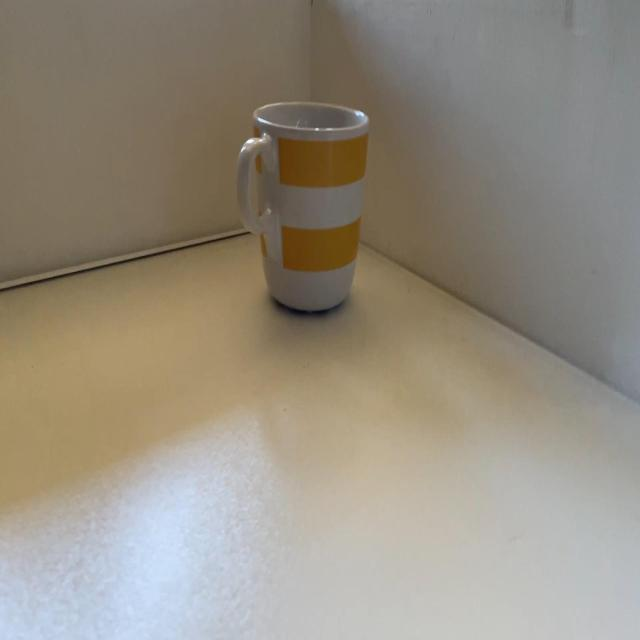cup: (236, 100, 371, 316)
